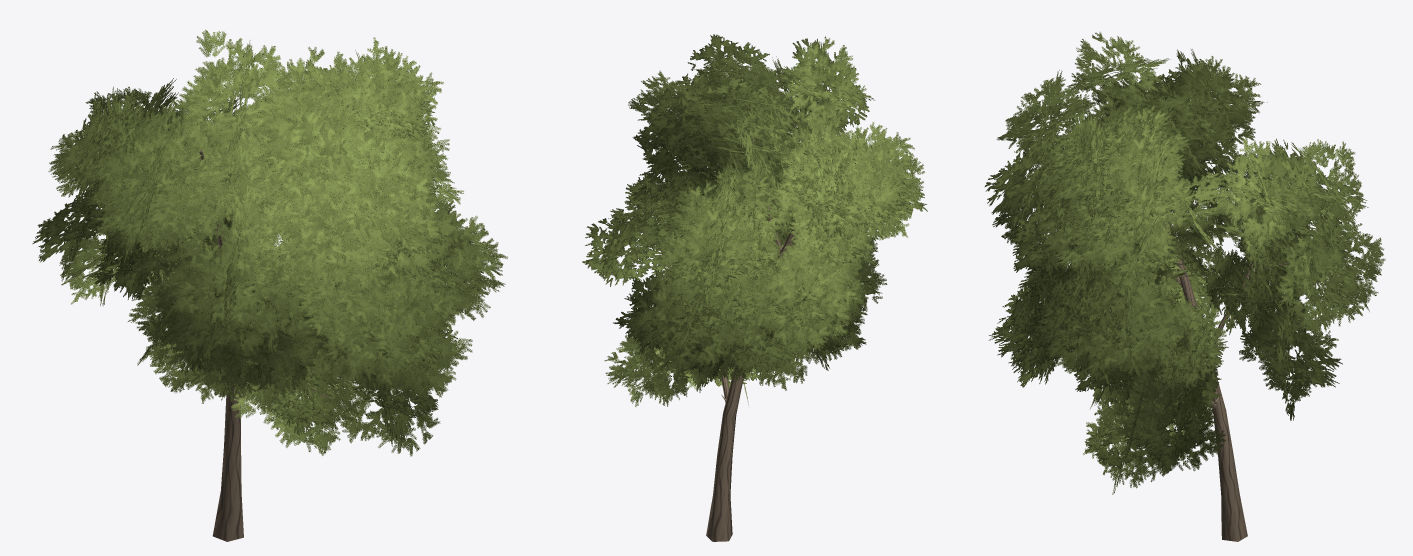
Rendered from sapling-a.lod0.glb.
3 renders of one model, left to right at view 1: azimuth 30°, elevation 25°; view 2: azimuth 150°, elevation 25°; view 3: azimuth 270°, elevation 25°, orthographic. The views are drawn at different scales.
Visible parts, largest first — view 1: foliage, bark; view 2: foliage, bark; view 3: foliage, bark.
Part boxes in pixels (left/top/right/bottom): foliage: left=32, top=29, right=507, bottom=456; bark: left=161, top=150, right=328, bottom=541; foliage: left=582, top=34, right=927, bottom=406; bark: left=706, top=138, right=794, bottom=541; foliage: left=984, top=32, right=1385, bottom=494; bark: left=1164, top=222, right=1289, bottom=541.
Size of the model in its own units: 1.01 by 1.3 by 0.9996.
Materials: 3 (2 with a texture image).
